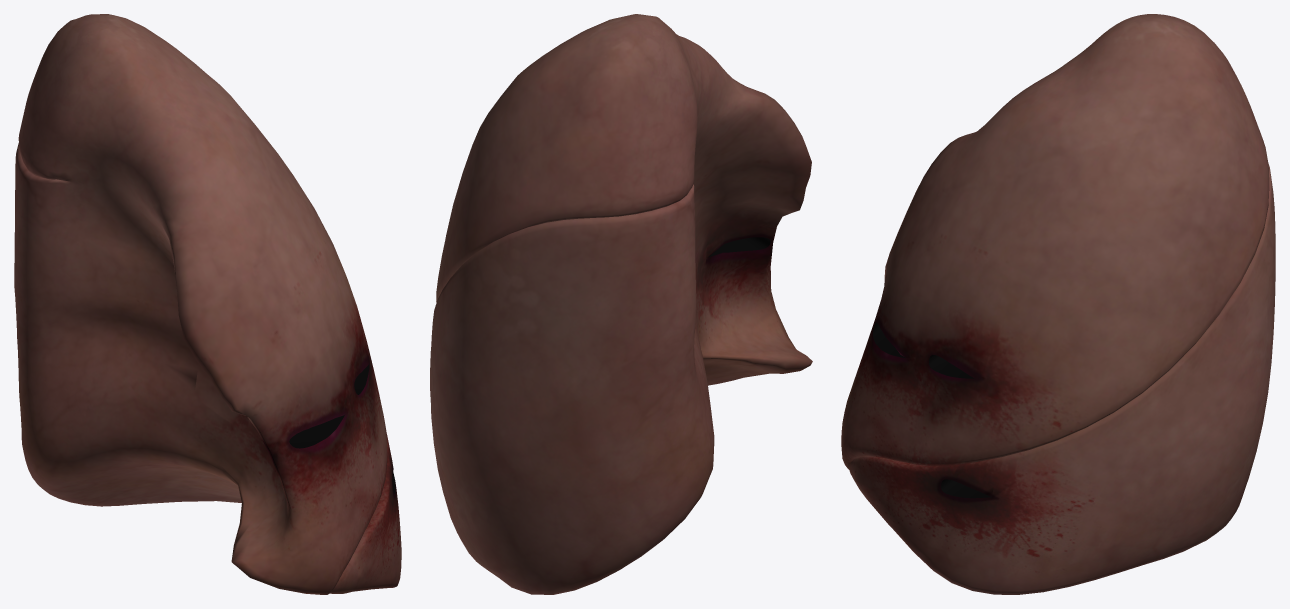
Rendered from pulmon.glb.
The picture shows the model from 3 angles, left to right: view 1: azimuth 30°, elevation 25°; view 2: azimuth 150°, elevation 25°; view 3: azimuth 270°, elevation 25°; orthographic projection. The views are drawn at different scales.
Visible parts, largest first — view 1: pulmon_apunalado; view 2: pulmon_apunalado; view 3: pulmon_apunalado.
Boxes of the visible parts, x1,y1,x2,y2 form: pulmon_apunalado: (14, 14, 401, 594); pulmon_apunalado: (430, 14, 812, 594); pulmon_apunalado: (841, 14, 1275, 594).
Bounding box in the file's own units: 0.2272 × 0.4115 × 0.3312.
Materials: 2 (1 with a texture image).
